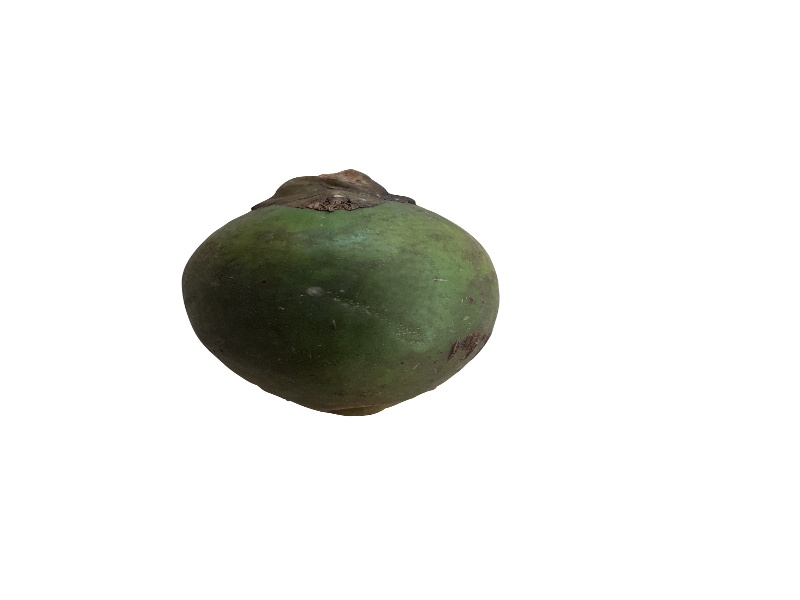arecanut: (169, 171, 516, 424)
